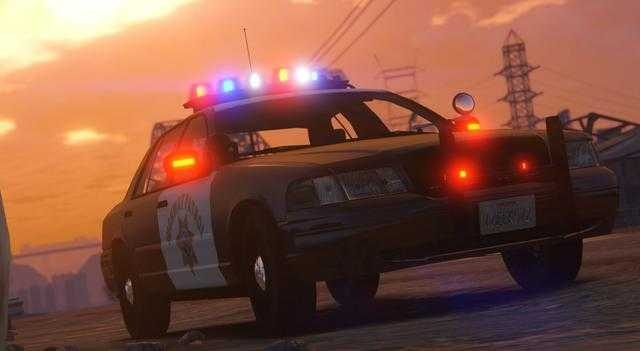Police Car: (73, 76, 623, 342)
